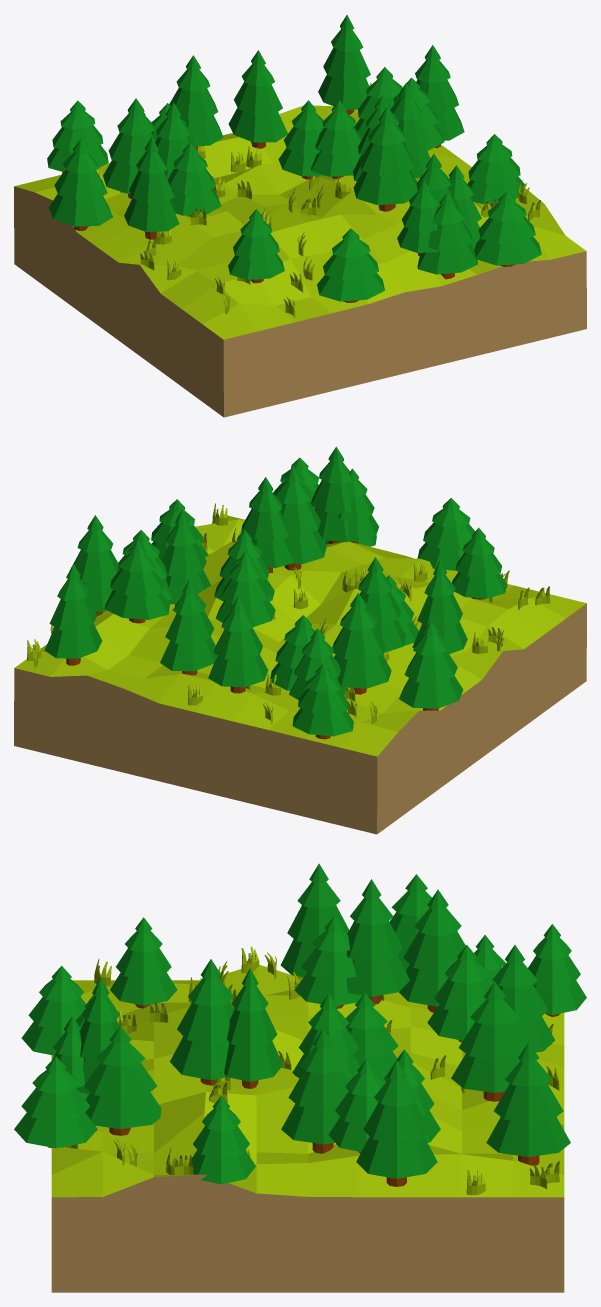
The model's file is bosque 1.fbx.
3 views of the same model, one above another, from view 1: azimuth 30°, elevation 25°; view 2: azimuth 150°, elevation 25°; view 3: azimuth 270°, elevation 25° (orthographic). The views are drawn at different scales.
Parts seen in each view (by area): view 1: Grid, Grid.001; view 2: Grid, Grid.001; view 3: Grid, Grid.001.
Boxes of the visible parts, left/top/right/bottom form: Grid: left=14, top=15, right=586, bottom=339; Grid.001: left=14, top=186, right=586, bottom=417; Grid: left=15, top=446, right=586, bottom=756; Grid.001: left=14, top=603, right=586, bottom=834; Grid: left=14, top=863, right=586, bottom=1197; Grid.001: left=51, top=1174, right=564, bottom=1292.
Size of the model in its own units: 220 by 109 by 223.
